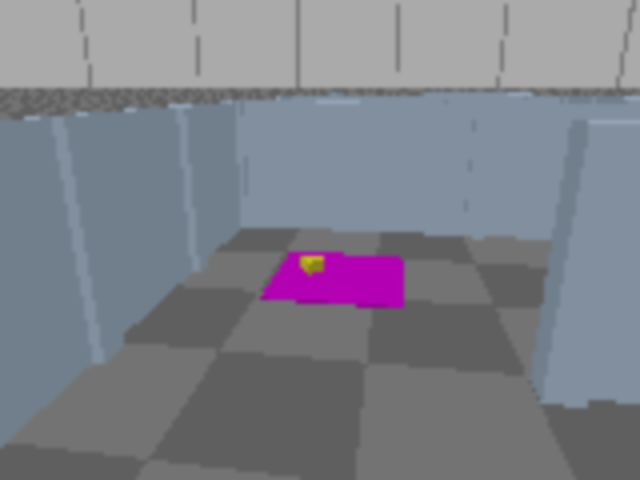goal_zone: (261, 251, 404, 309)
puck: (301, 254, 325, 276)
